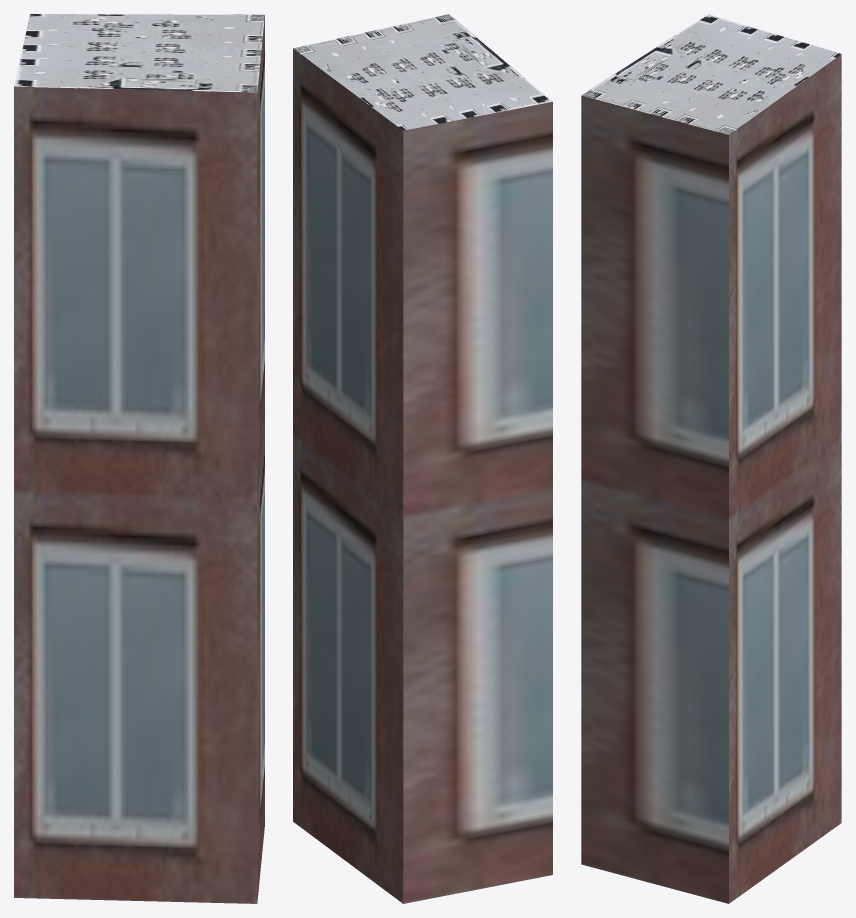
Rendered from ResTex__4484.fbx.
3 views of the same model, side by side, from view 1: azimuth 30°, elevation 25°; view 2: azimuth 150°, elevation 25°; view 3: azimuth 270°, elevation 25° (orthographic). The views are drawn at different scales.
Visible parts, largest first — view 1: CityEngineMaterial_19_m, CityEngineMaterial_m; view 2: CityEngineMaterial_19_m, CityEngineMaterial_m; view 3: CityEngineMaterial_19_m, CityEngineMaterial_m.
Boxes of the visible parts, left/top/right/bottom form: CityEngineMaterial_19_m: left=14, top=16, right=264, bottom=903; CityEngineMaterial_m: left=14, top=14, right=264, bottom=92; CityEngineMaterial_19_m: left=293, top=48, right=552, bottom=903; CityEngineMaterial_m: left=293, top=14, right=552, bottom=130; CityEngineMaterial_19_m: left=581, top=54, right=841, bottom=903; CityEngineMaterial_m: left=581, top=14, right=841, bottom=134.
Bounding box in the file's own units: 2.03 × 6 × 1.84.
2 materials, 2 textured.
